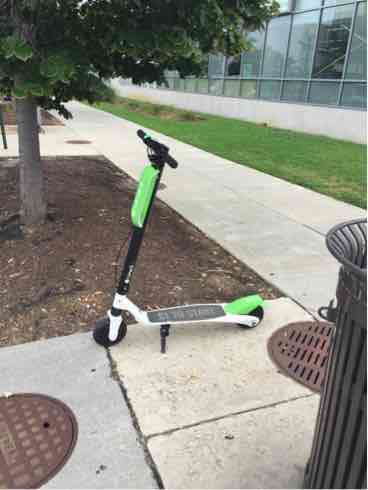scooter: (86, 116, 285, 345)
